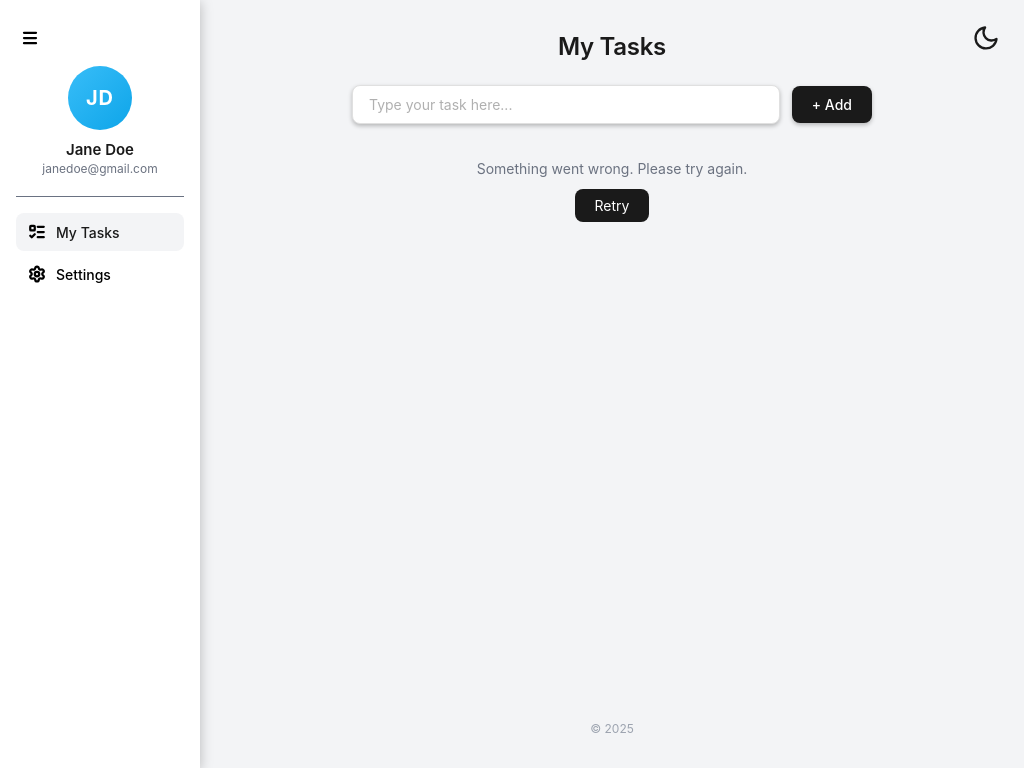
Scenario: TasksPage интеграционные сценарии › JSONPlaceholder: error → показываем сообщение и Retry → повторная загрузка
Check: the text "Something went wrong. Please try again." is shown, box x1=477 y1=160 x2=747 y2=177
Click the button "Retry": [612, 206] box x1=574 y1=189 x2=649 y2=222
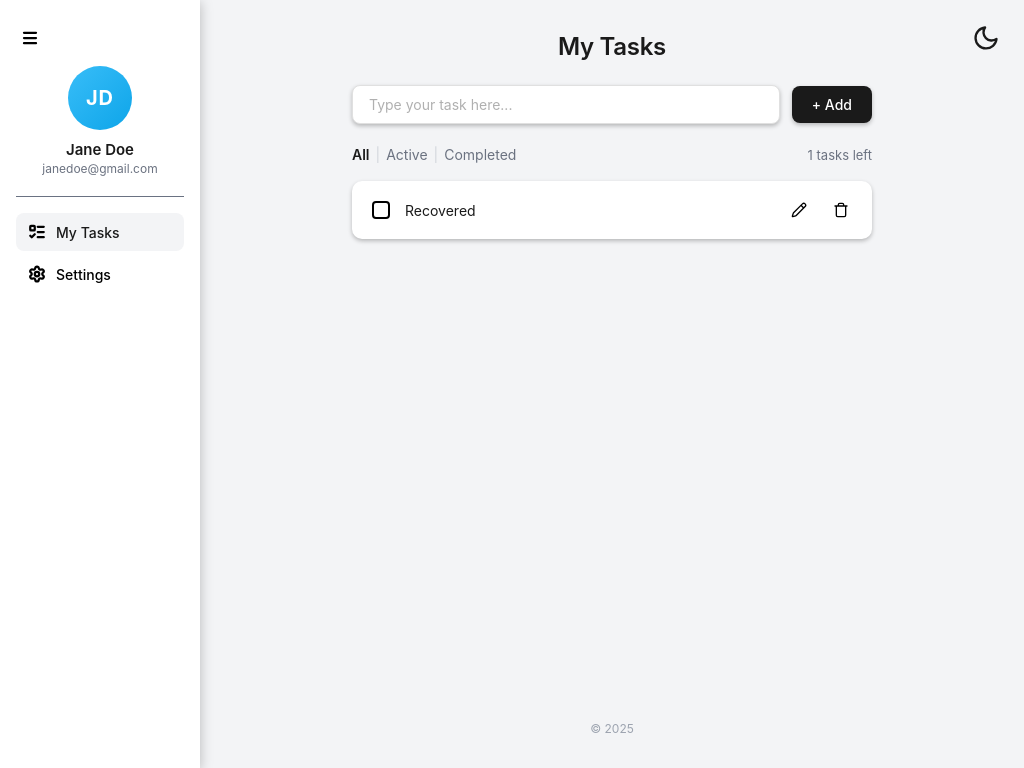
Check: the text "Recovered" is shown, box x1=405 y1=202 x2=476 y2=218
